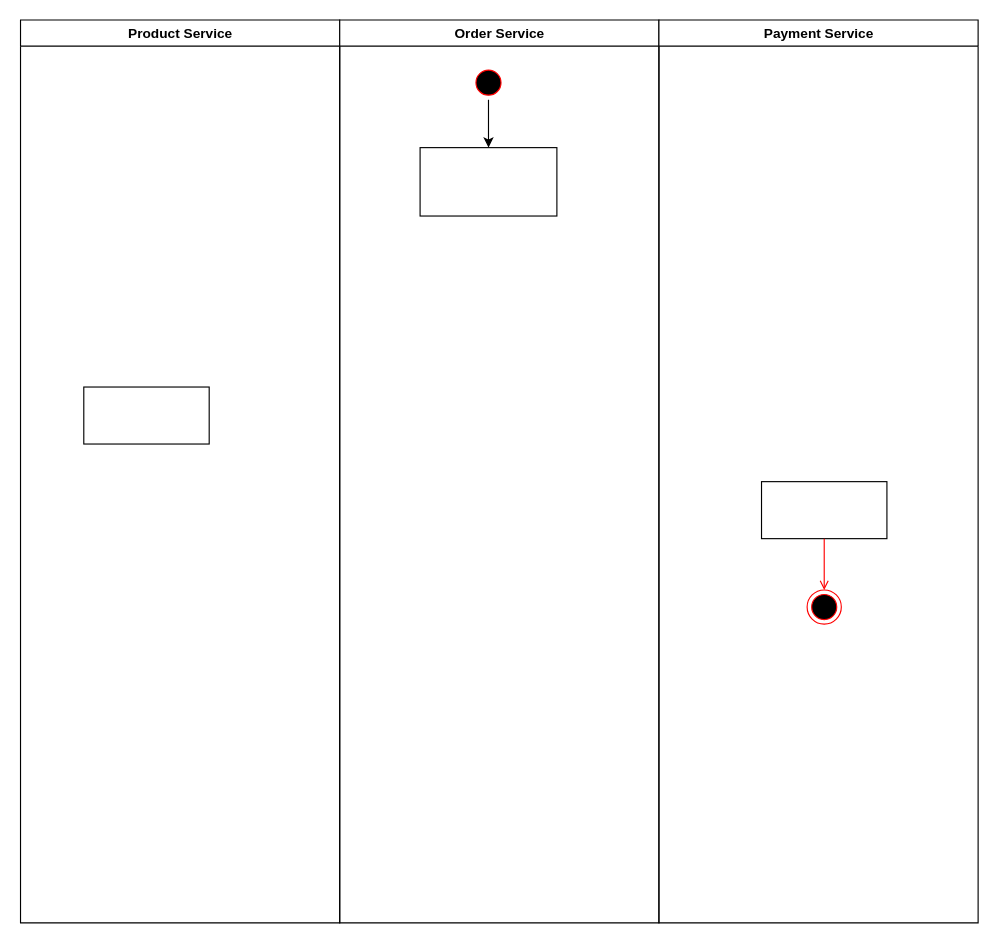
Image size: 998x943. Some labels were removed from this diagram. Here are the shapes that lost their labels. From the top down, the centre of each, then its label:
At point 146,415: "Get product".
At point 823,510: "process command".
